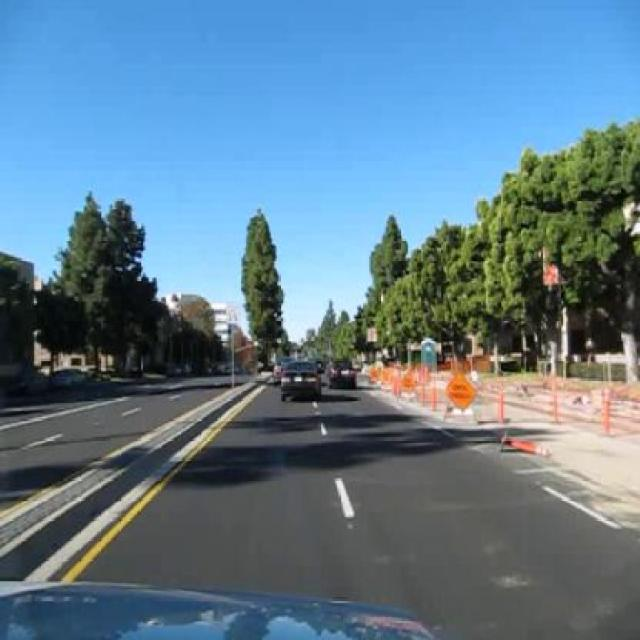speedLimit35: (225, 302, 239, 322)
